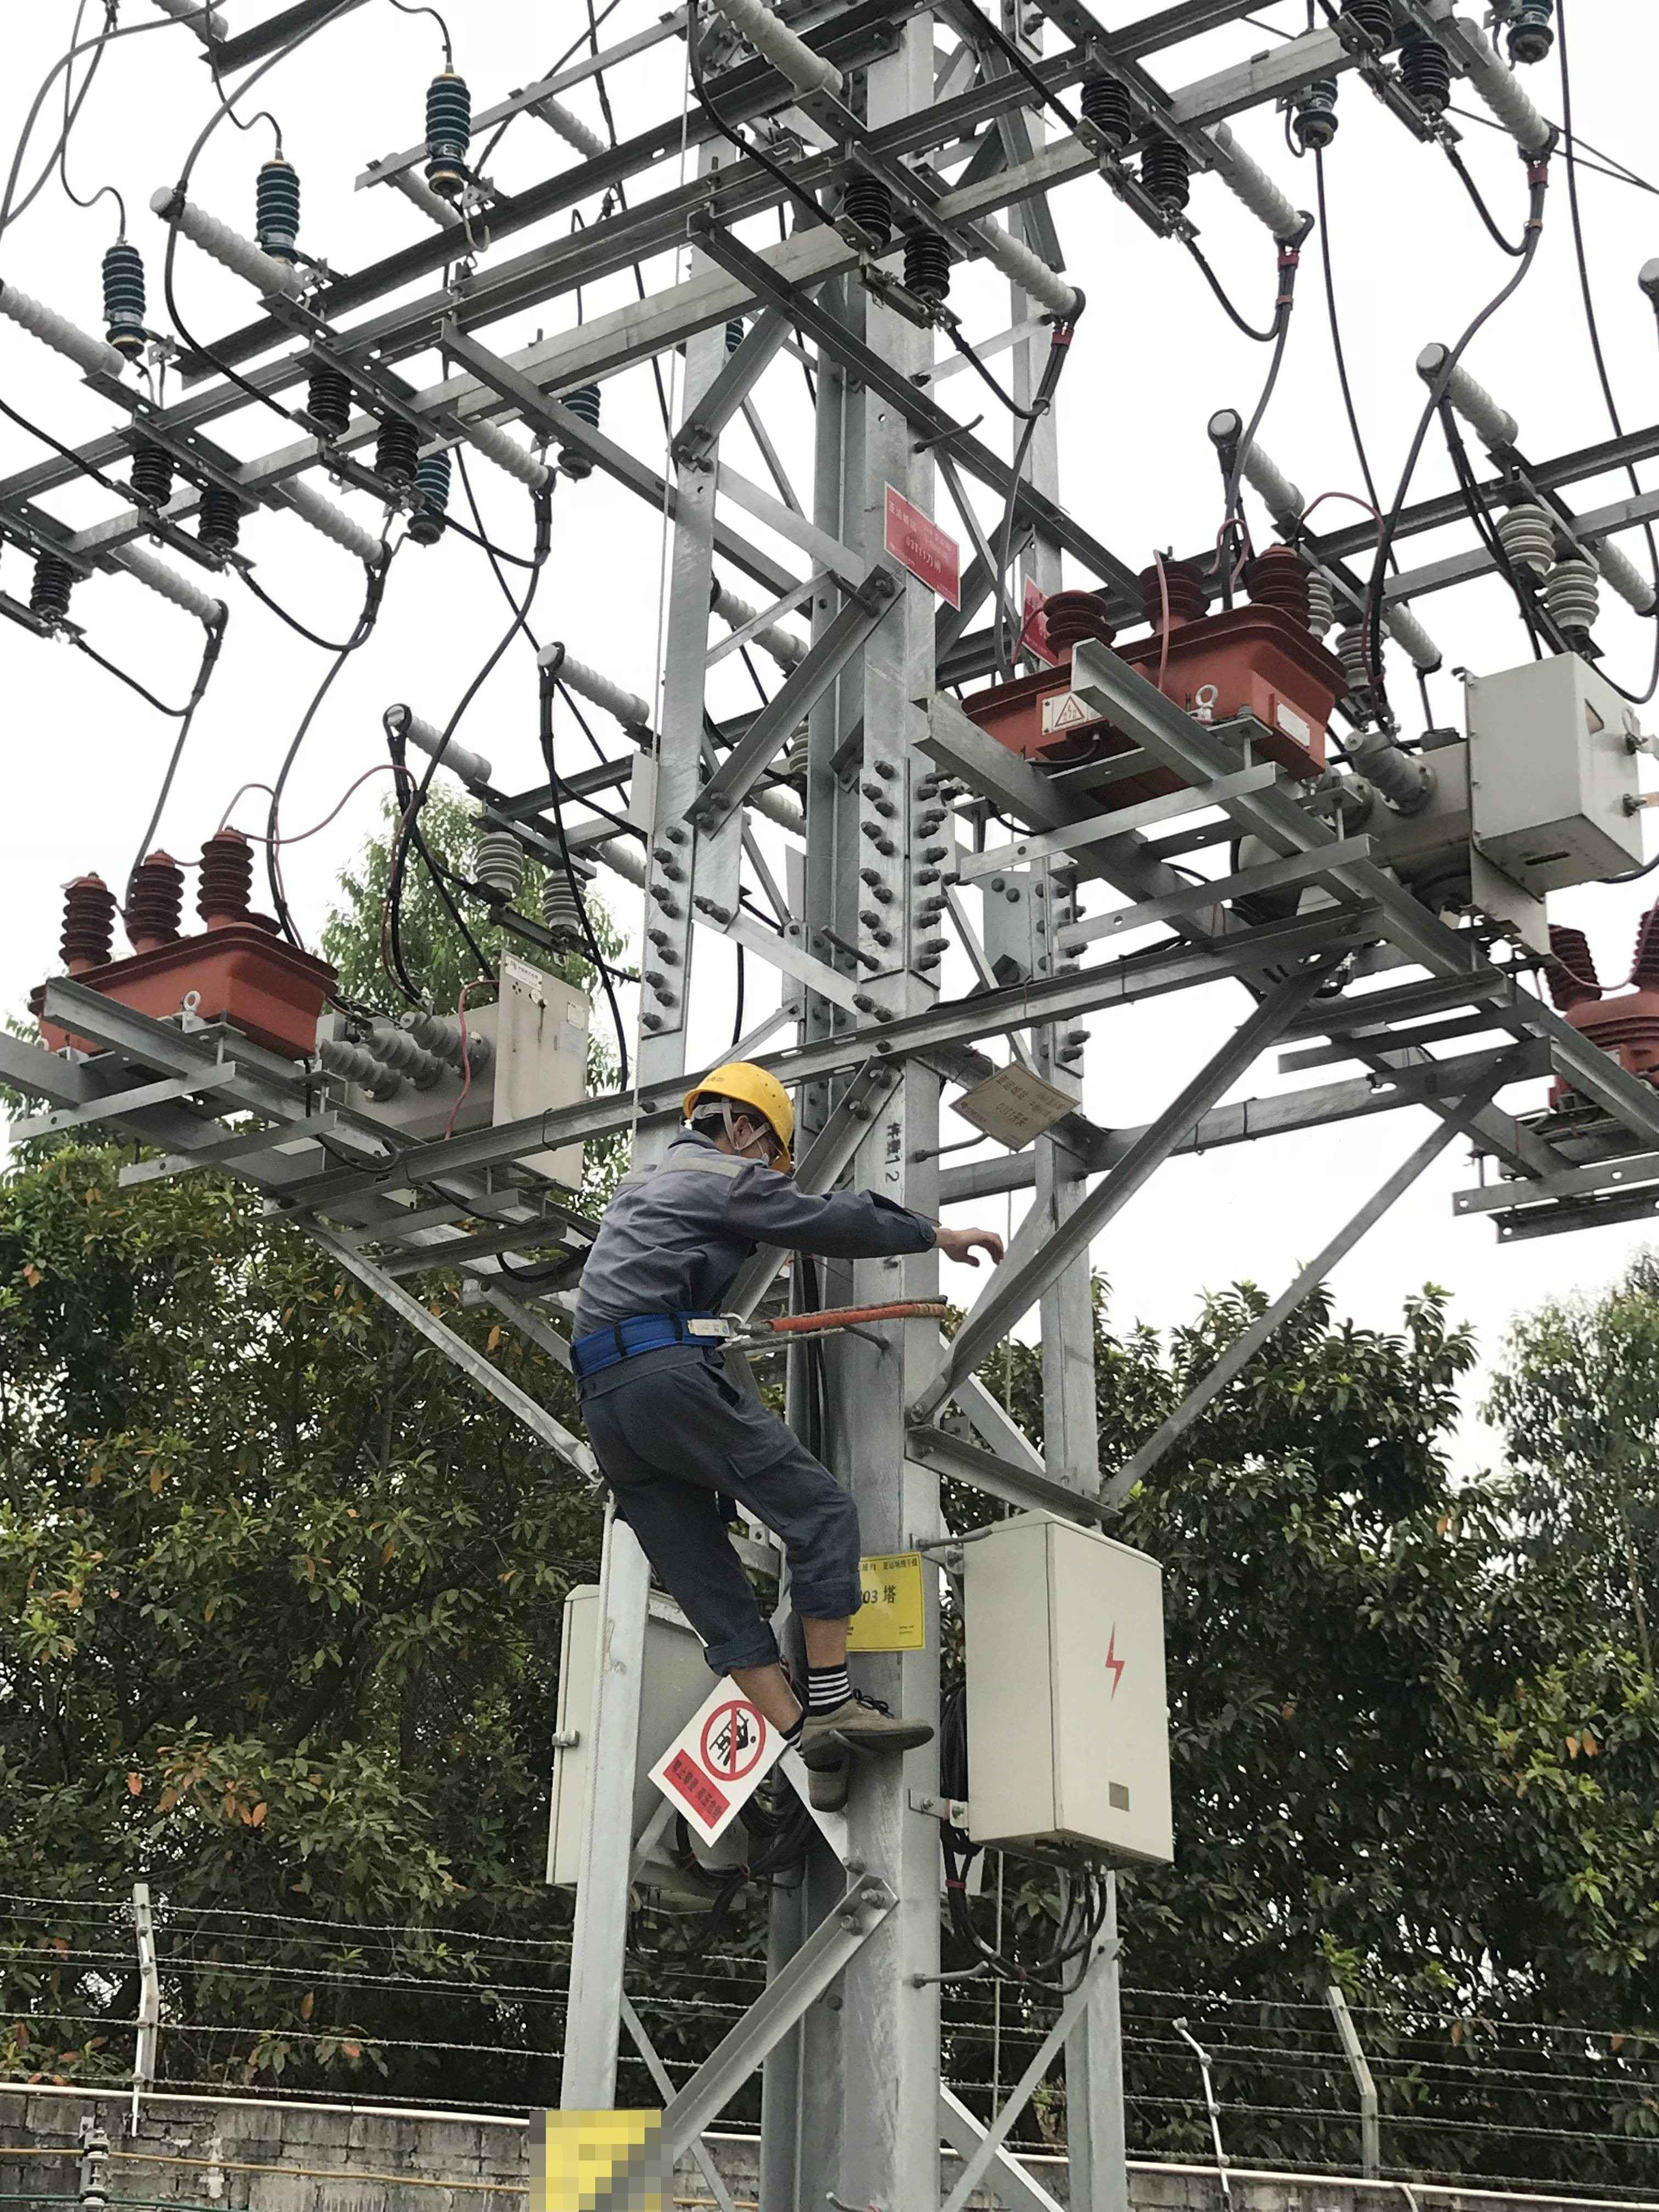downsuit: (577, 1378, 871, 1676)
upsuit: (563, 1130, 934, 1357)
wrongbottom: (706, 1630, 842, 1745), (788, 1571, 871, 1693)
